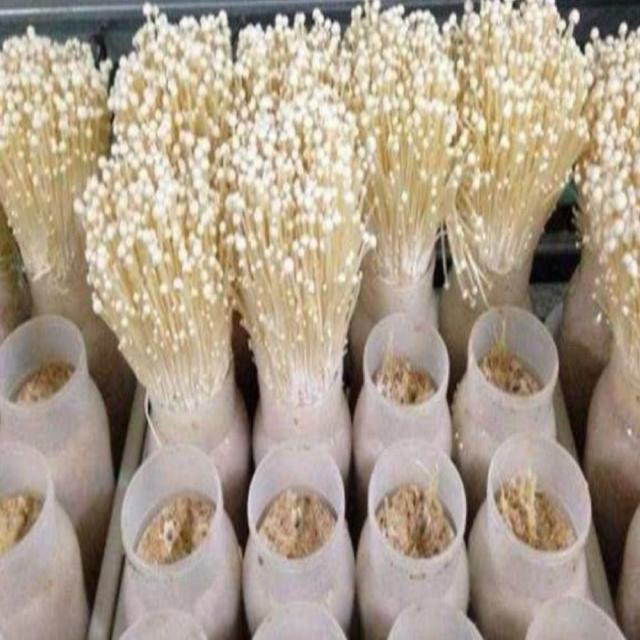Flammulina velutiper: (77, 139, 238, 415), (224, 115, 370, 404), (460, 2, 591, 272), (343, 4, 454, 276), (2, 22, 109, 302), (583, 19, 640, 388), (107, 11, 229, 138), (234, 11, 347, 119)
